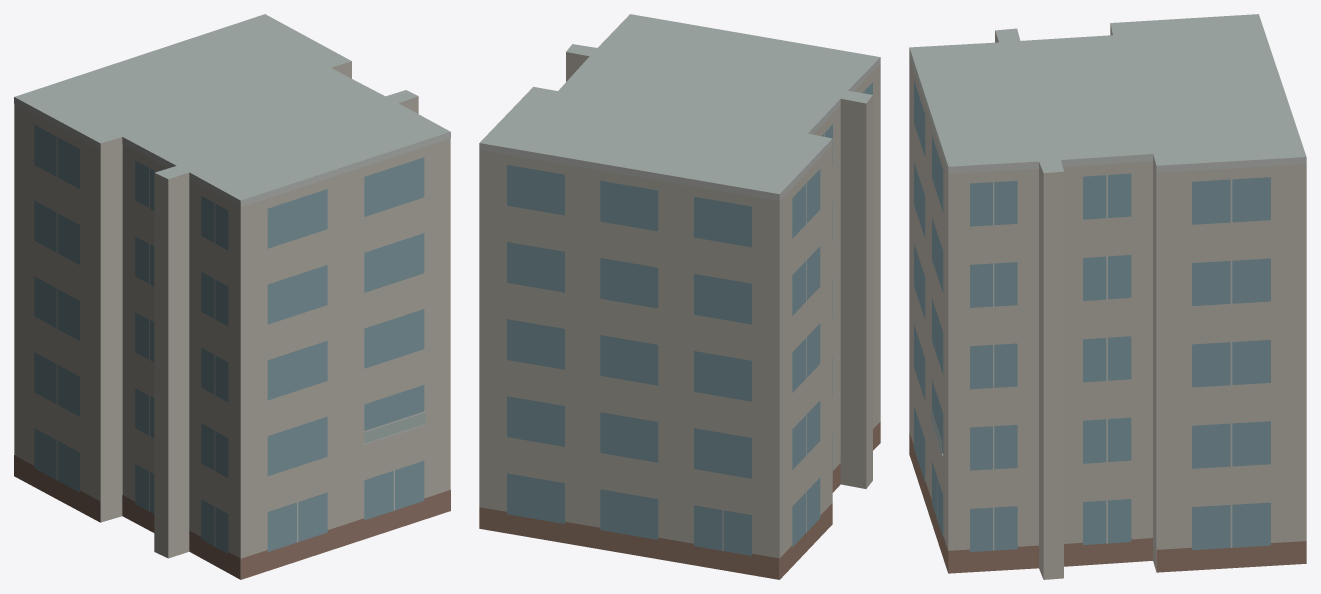
The model's file is survey-upis-32708417.glb.
3 renders of one model, left to right at view 1: azimuth 30°, elevation 25°; view 2: azimuth 150°, elevation 25°; view 3: azimuth 270°, elevation 25°, orthographic. The views are drawn at different scales.
Visible parts, largest first — view 1: survey-upis-32708417.tmp; view 2: survey-upis-32708417.tmp; view 3: survey-upis-32708417.tmp.
Part boxes in pixels (x1,y1,x2,y2): survey-upis-32708417.tmp: (14,14,450,579); survey-upis-32708417.tmp: (479,14,880,579); survey-upis-32708417.tmp: (909,14,1306,579).
Size of the model in its own units: 11.67 by 13.9 by 12.31.
